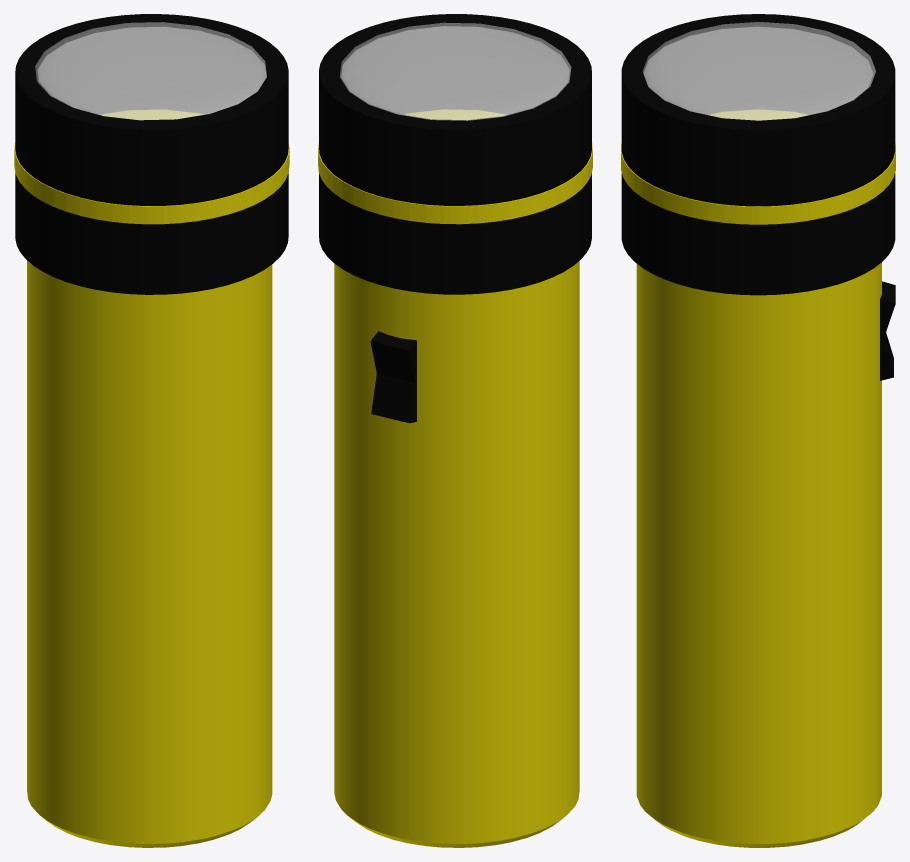
The model's file is Flashlight.fbx.
3 renders of one model, left to right at view 1: azimuth 30°, elevation 25°; view 2: azimuth 150°, elevation 25°; view 3: azimuth 270°, elevation 25°, orthographic.
Visible parts, largest first — view 1: pCylinder1, polySurface1, pSphere1, polySurface2; view 2: pCylinder1, polySurface1, pSphere1, polySurface2, pCube1, pCube2; view 3: pCylinder1, polySurface1, pSphere1, polySurface2, pCube1, pCube2.
Part boxes in pixels (<box>): pCylinder1: <box>27,260,272,847</box>; polySurface1: <box>15,14,288,294</box>; pSphere1: <box>35,22,266,120</box>; polySurface2: <box>14,109,289,224</box>; pCylinder1: <box>334,261,579,847</box>; polySurface1: <box>319,14,591,294</box>; pSphere1: <box>339,22,571,120</box>; polySurface2: <box>318,109,592,224</box>; pCube1: <box>370,331,416,383</box>; pCube2: <box>371,373,416,423</box>; pCylinder1: <box>636,262,881,847</box>; polySurface1: <box>621,14,895,295</box>; pSphere1: <box>642,22,875,120</box>; polySurface2: <box>621,109,895,224</box>; pCube1: <box>880,281,895,340</box>; pCube2: <box>880,332,893,380</box>.
Bounding box in the file's own units: 2.44 × 7.22 × 2.44.
